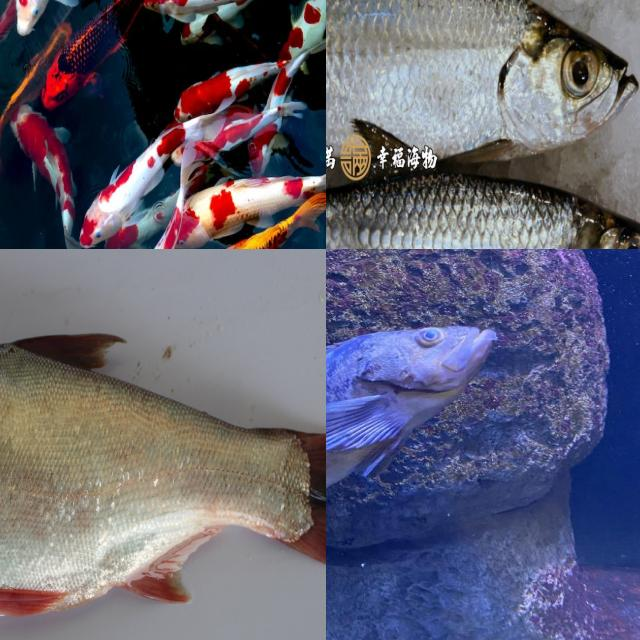fish: (0, 323, 326, 640), (0, 0, 326, 249), (326, 0, 640, 168), (326, 320, 503, 597)
